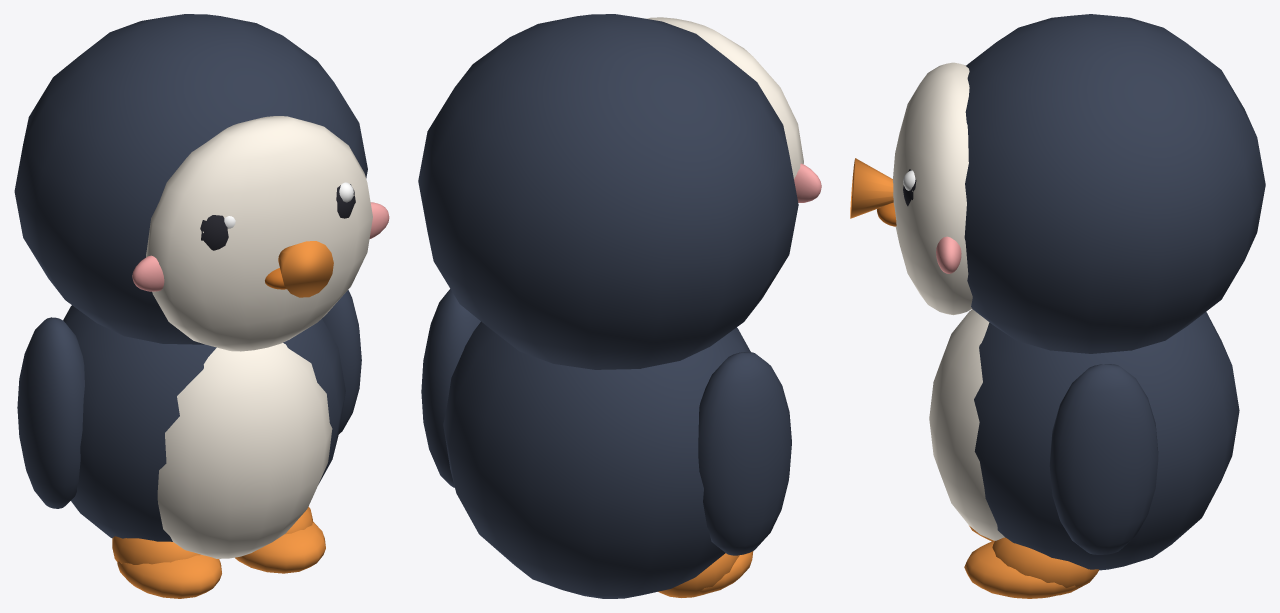
The model's file is canh-cung-tuc.glb.
3 renders of one model, left to right at view 1: azimuth 30°, elevation 25°; view 2: azimuth 150°, elevation 25°; view 3: azimuth 270°, elevation 25°, orthographic. The views are drawn at different scales.
Visible parts, largest first — view 1: Head, Body, eyeL, eyeR; view 2: Head, Body; view 3: Head, Body.
Part boxes in pixels (box(x1,y1,x2,y2)): Head: box(14, 14, 389, 351); Body: box(17, 290, 361, 598); eyeL: box(200, 215, 235, 250); eyeR: box(336, 182, 355, 218); Head: box(418, 14, 821, 369); Body: box(421, 289, 791, 598); Head: box(850, 14, 1265, 353); Body: box(929, 309, 1239, 598).
Size of the model in its own units: 0.8794 by 1.35 by 0.9508.
